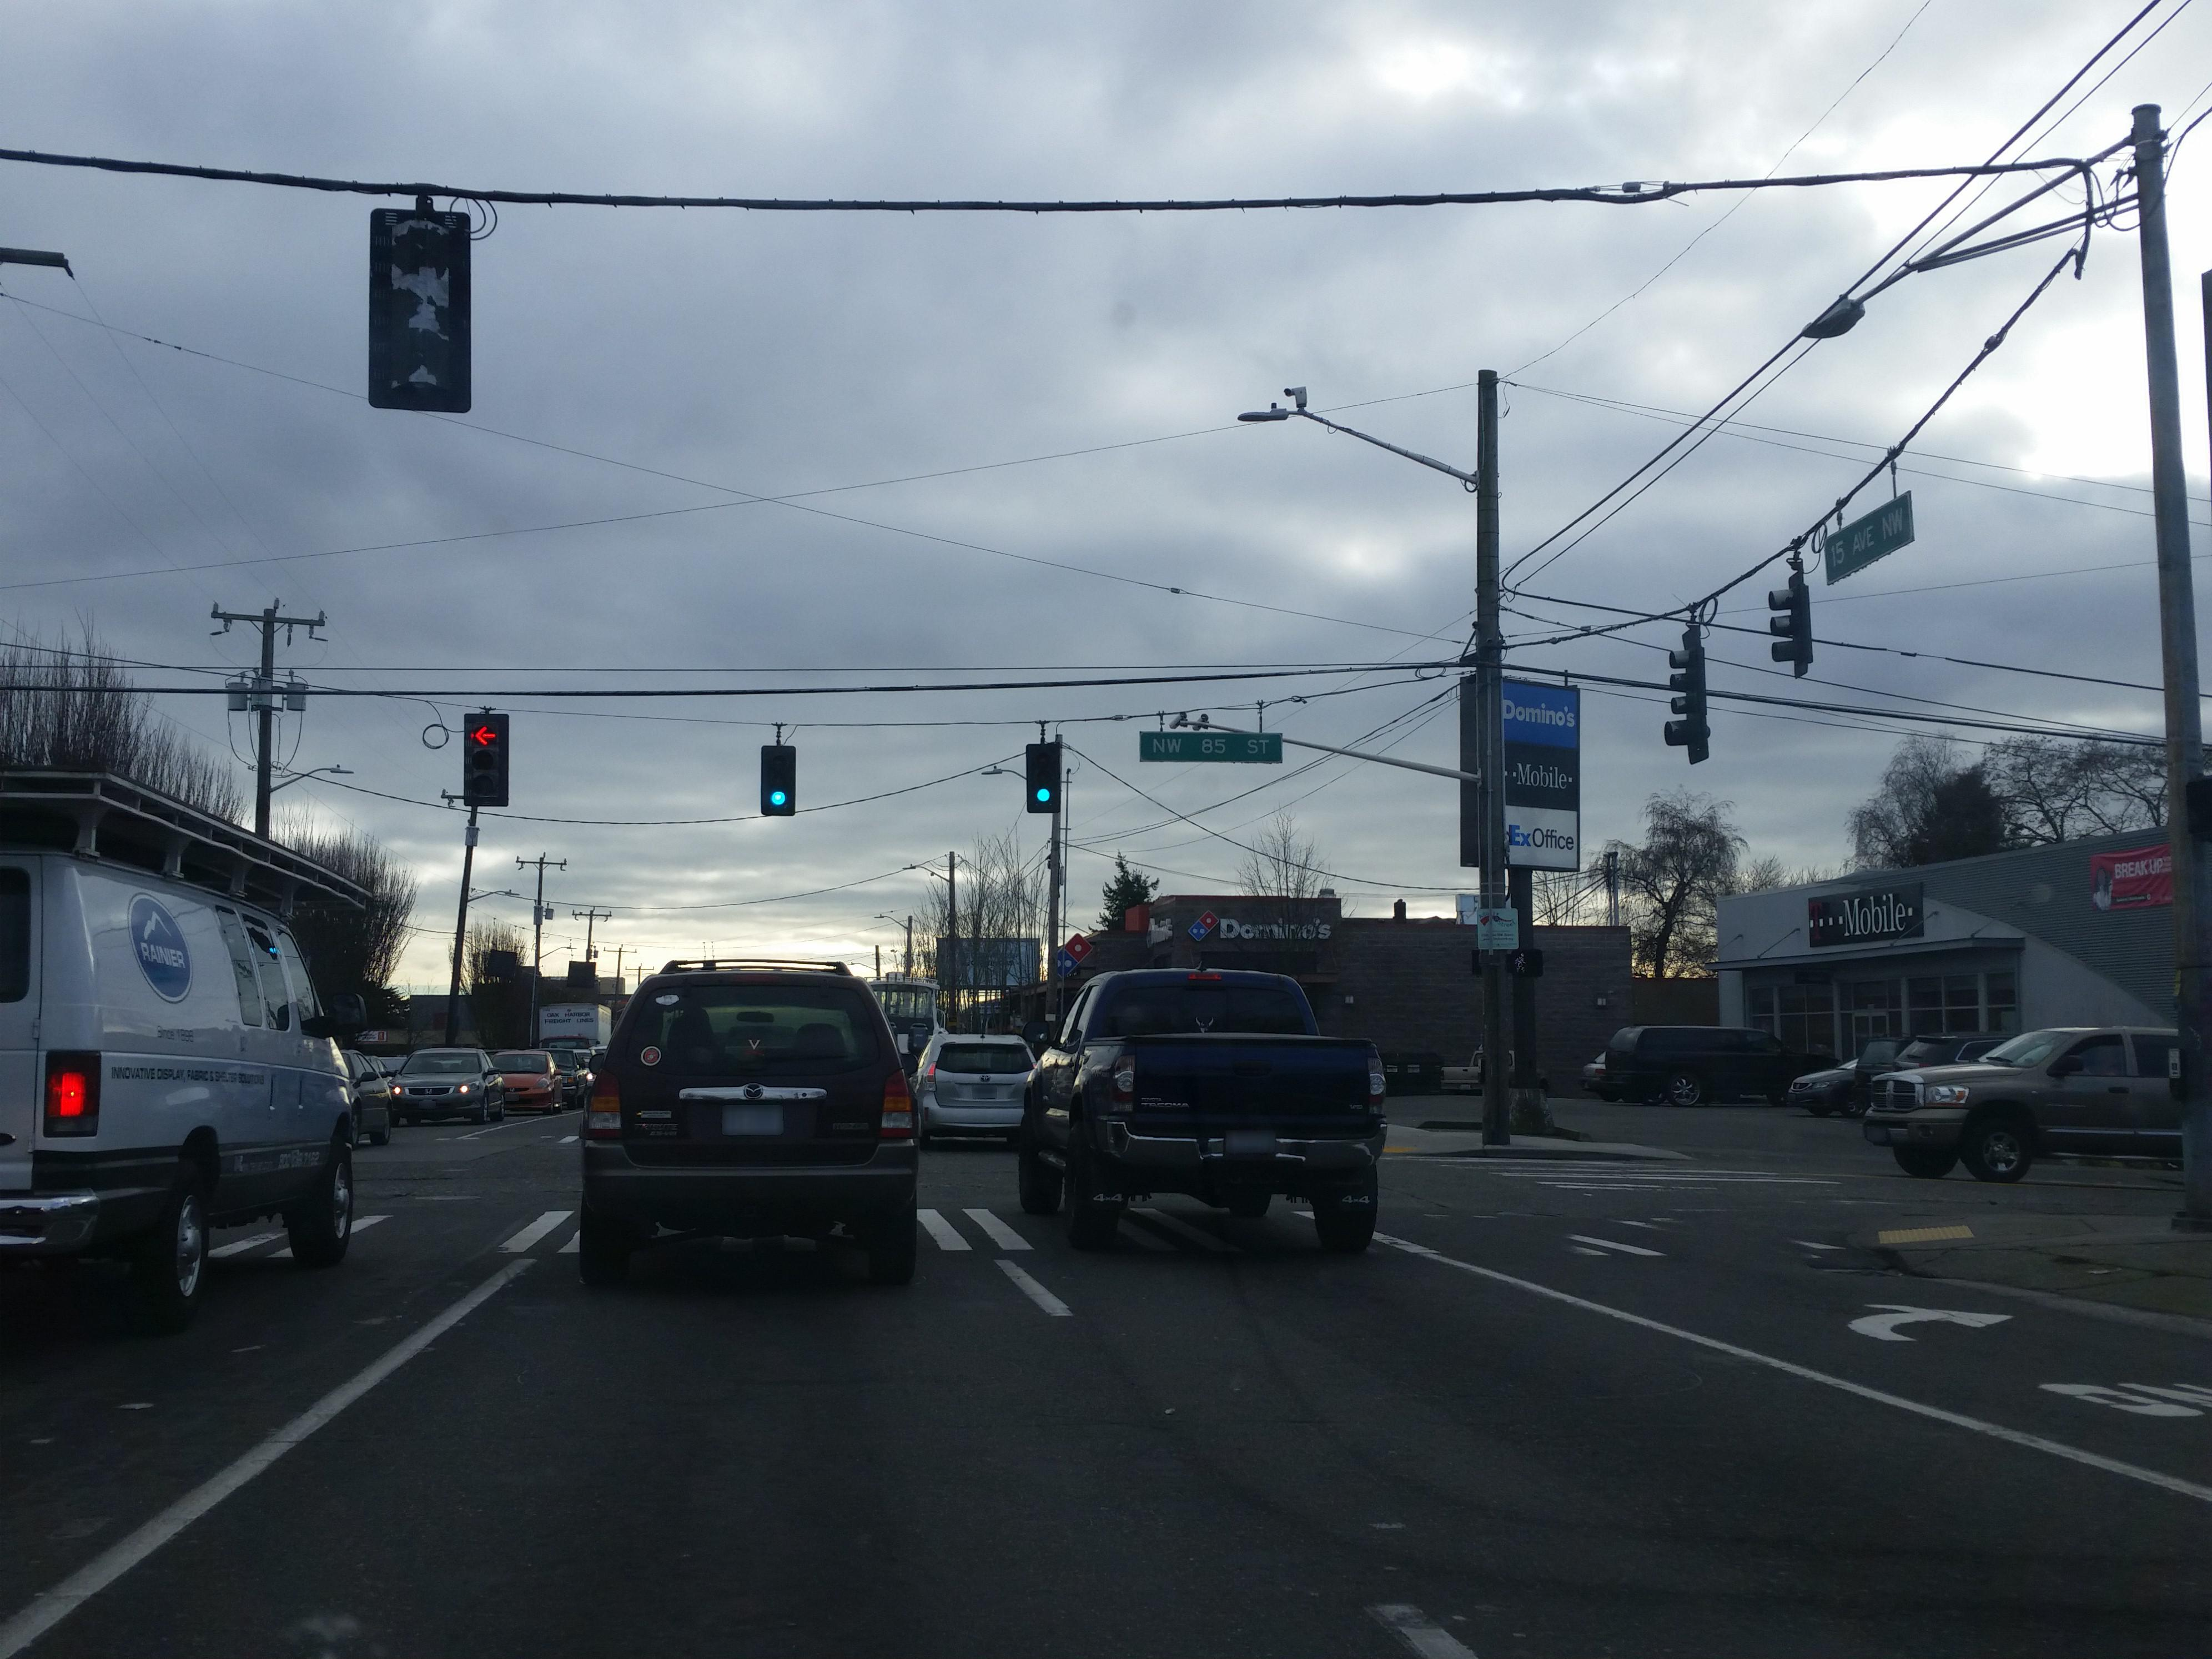vinyl banner: (2088, 836, 2196, 925)
